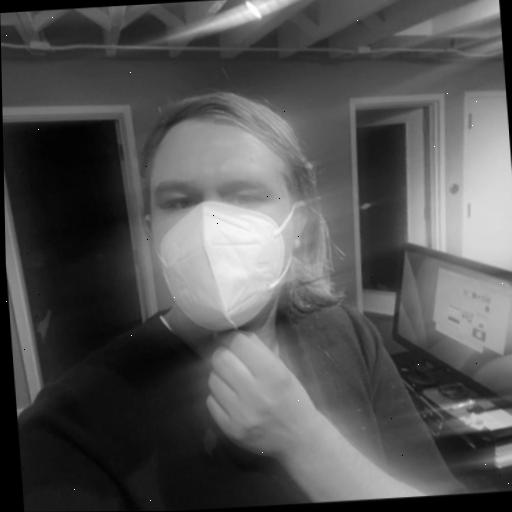mask: (114, 69, 326, 351)
